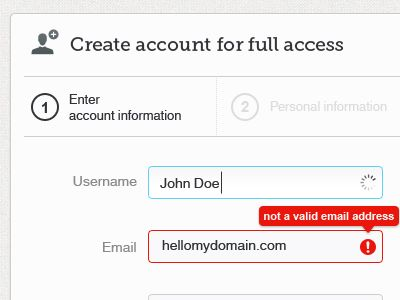error_field: (147, 229, 384, 264)
error_message: (263, 210, 395, 223)
